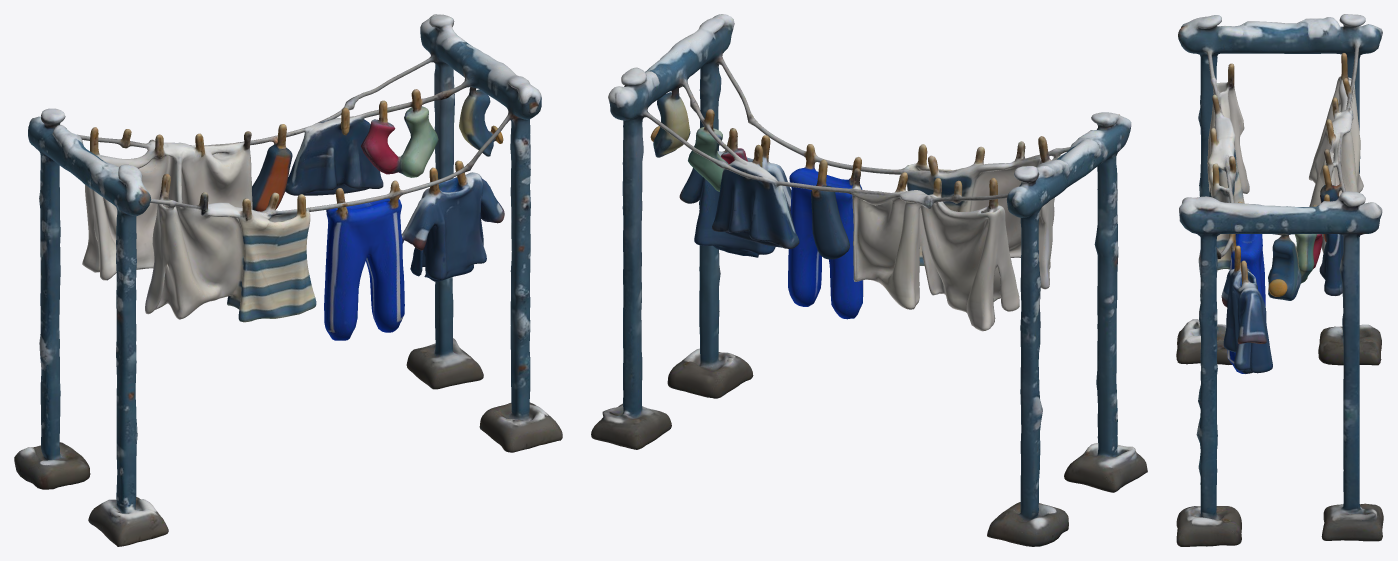
File: g67_laundry_lines.glb
3 views of the same model, side by side, from view 1: azimuth 30°, elevation 25°; view 2: azimuth 150°, elevation 25°; view 3: azimuth 270°, elevation 25° (orthographic). The views are drawn at different scales.
Parts seen in each view (by area): view 1: tripo_node_c78692be; view 2: tripo_node_c78692be; view 3: tripo_node_c78692be.
Boxes of the visible parts, x1=… form: tripo_node_c78692be: x1=14, y1=14, x2=562, y2=546; tripo_node_c78692be: x1=591, y1=14, x2=1147, y2=546; tripo_node_c78692be: x1=1176, y1=14, x2=1383, y2=546.
Size of the model in its own units: 97.82 by 75.91 by 41.78.
Materials: 1 (1 with a texture image).
